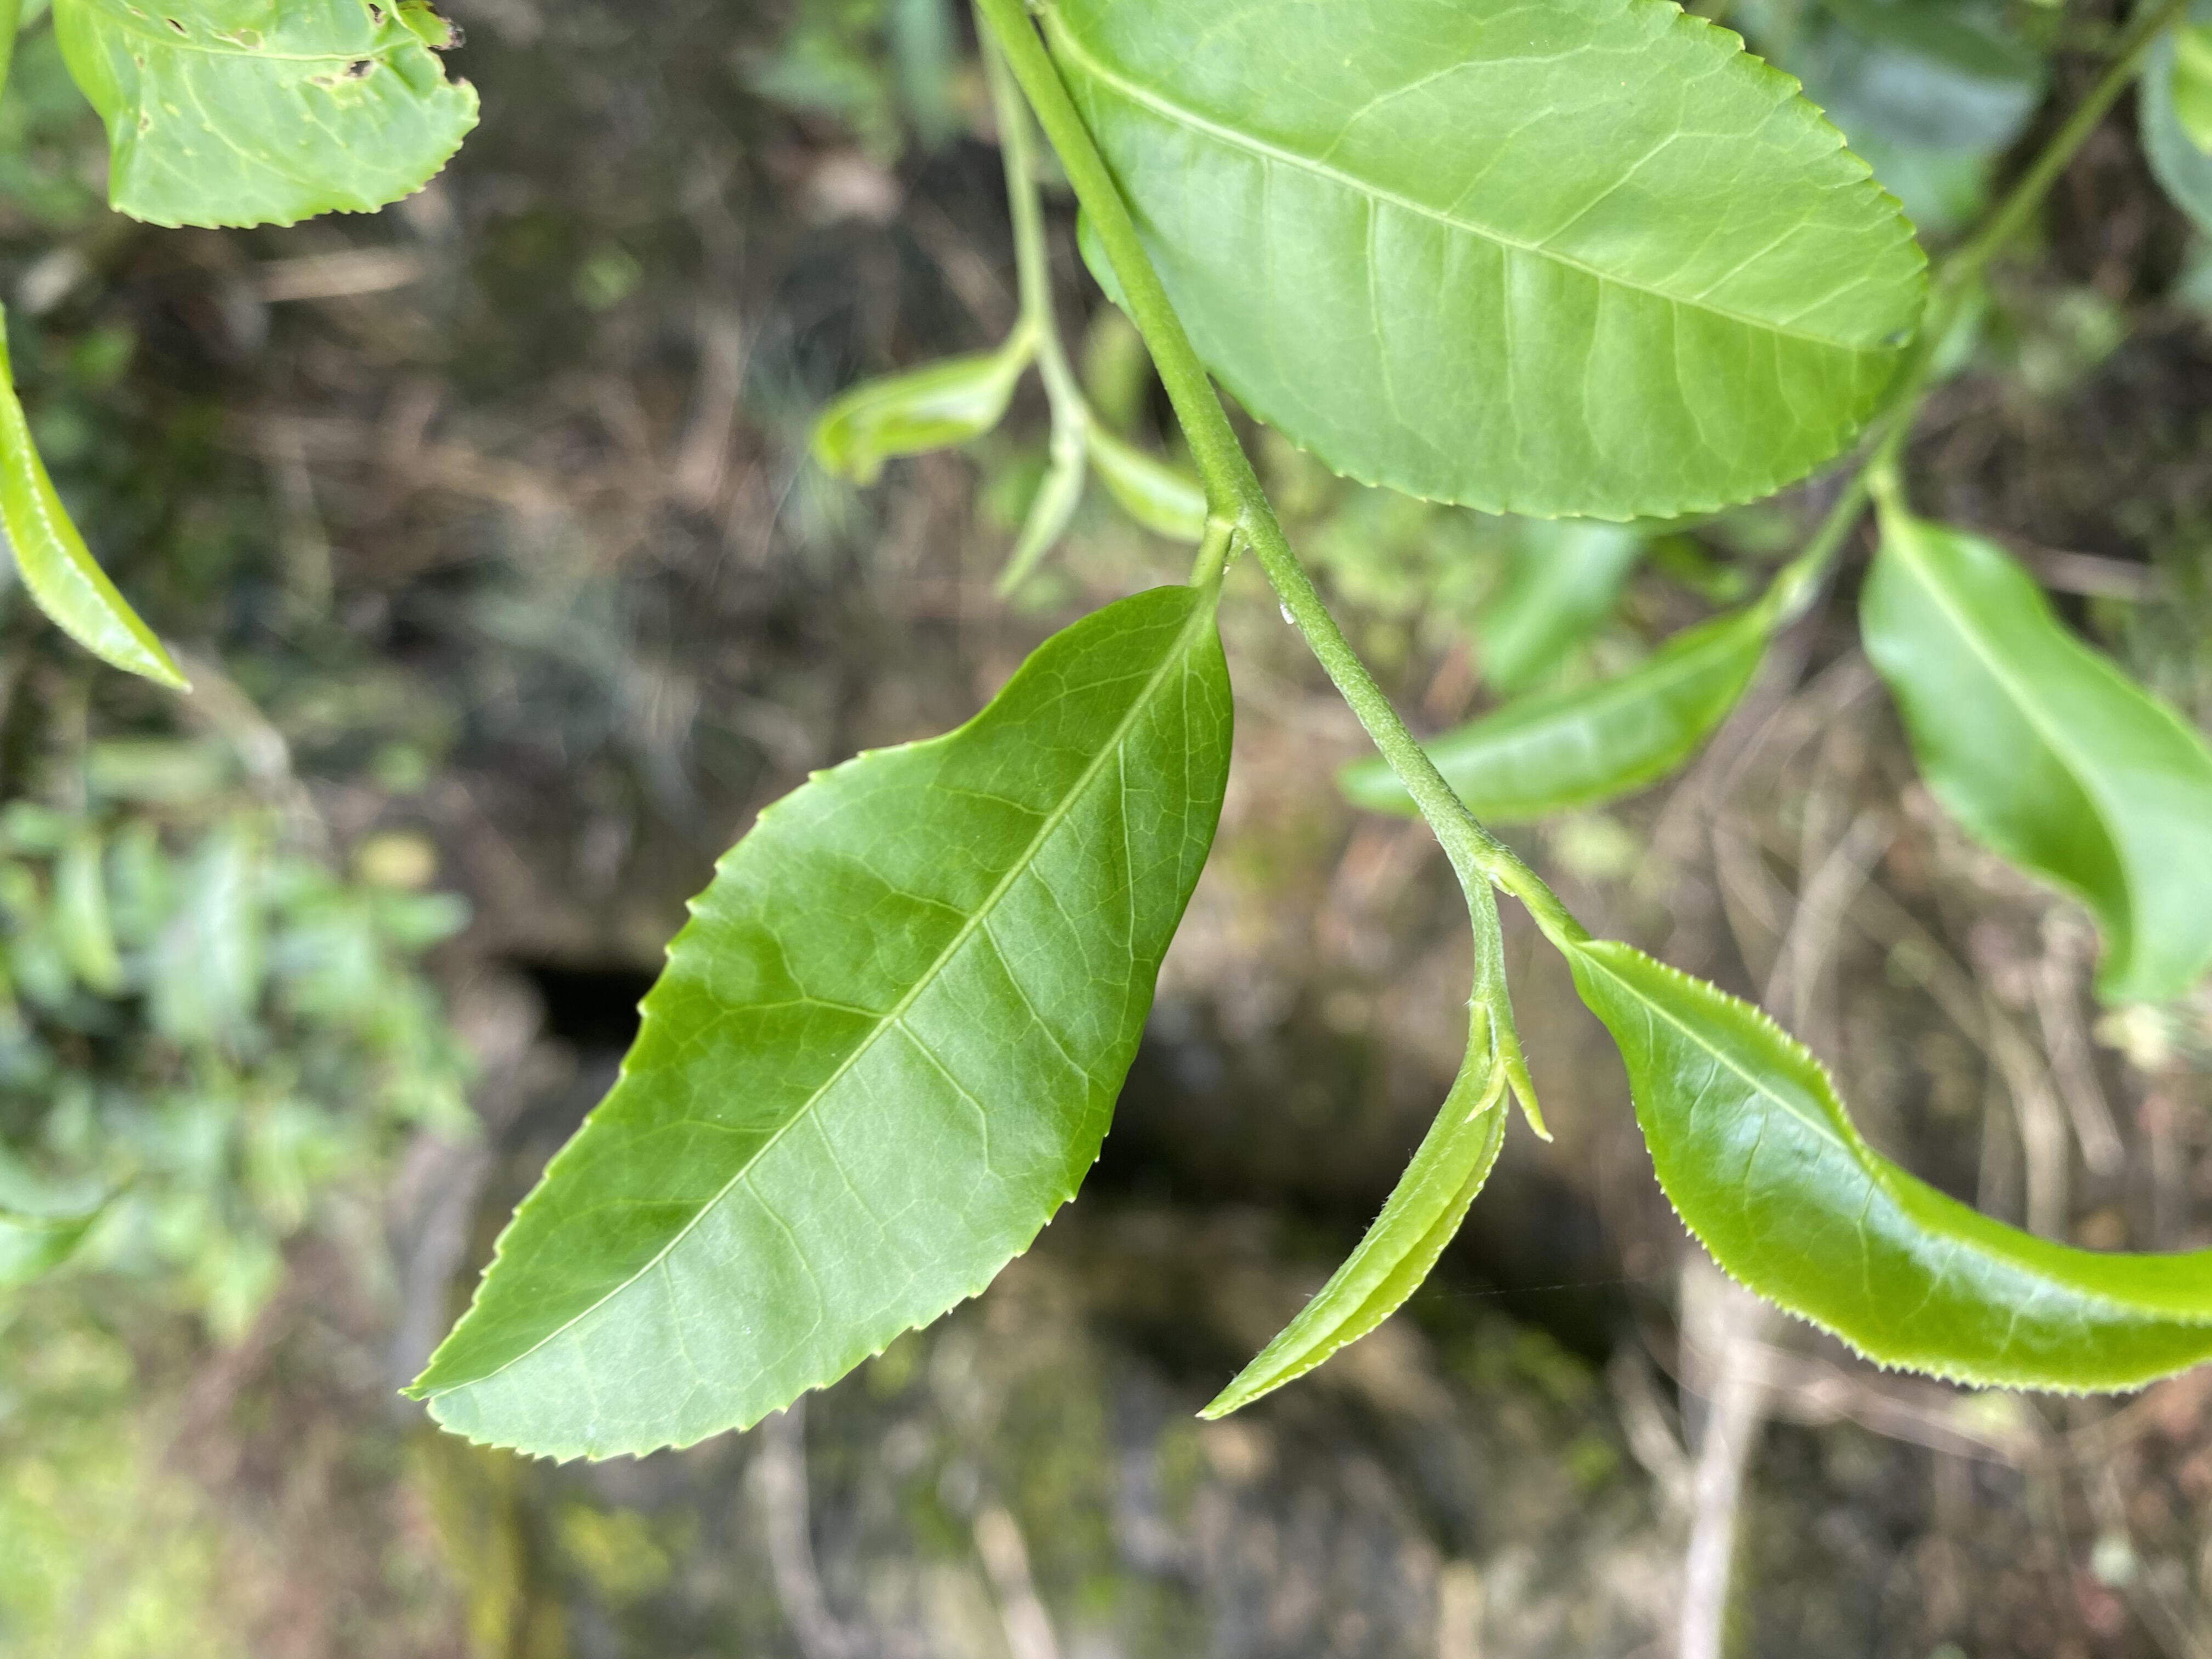chihuo_low: (44, 2, 482, 235)
healthy: (395, 580, 1240, 1471), (1033, 3, 1933, 523), (1564, 934, 2210, 1401)
